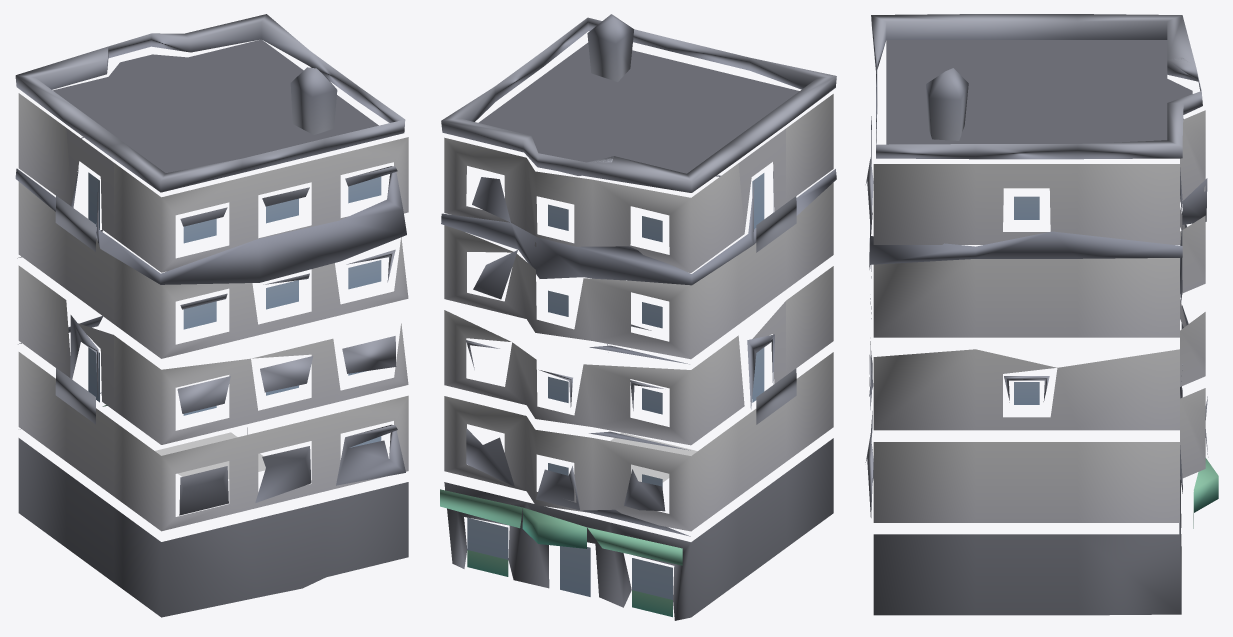
The picture shows the model from 3 angles, left to right: view 1: azimuth 30°, elevation 25°; view 2: azimuth 150°, elevation 25°; view 3: azimuth 270°, elevation 25°; orthographic projection. The views are drawn at different scales.
Bounding box in the file's own units: 10.31 × 18.16 × 11.06.
